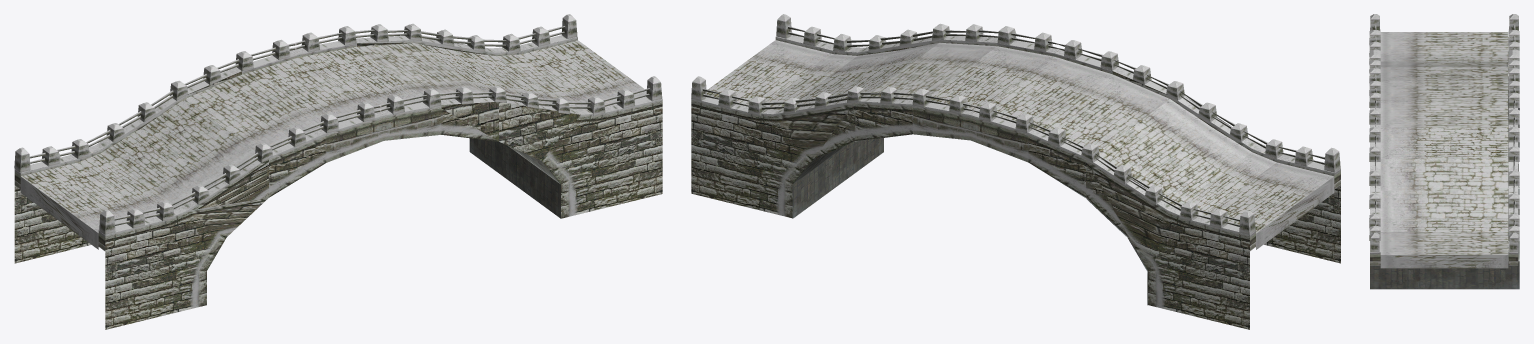
The model's file is nsm-10m-bridge02_lod_01.fbx.
The picture shows the model from 3 angles, left to right: view 1: azimuth 30°, elevation 25°; view 2: azimuth 150°, elevation 25°; view 3: azimuth 270°, elevation 25°; orthographic projection. The views are drawn at different scales.
Visible parts, largest first — view 1: nsm-10m-bridge02, nsm-10m-bridge01; view 2: nsm-10m-bridge02, nsm-10m-bridge01; view 3: nsm-10m-bridge02.
Part boxes in pixels (left/top/right/bottom): nsm-10m-bridge02: left=14, top=14, right=662, bottom=250; nsm-10m-bridge01: left=14, top=37, right=662, bottom=329; nsm-10m-bridge02: left=691, top=14, right=1340, bottom=305; nsm-10m-bridge01: left=691, top=37, right=1340, bottom=329; nsm-10m-bridge02: left=1369, top=14, right=1519, bottom=289.
Size of the model in its own units: 28.93 by 7.94 by 8.24.
